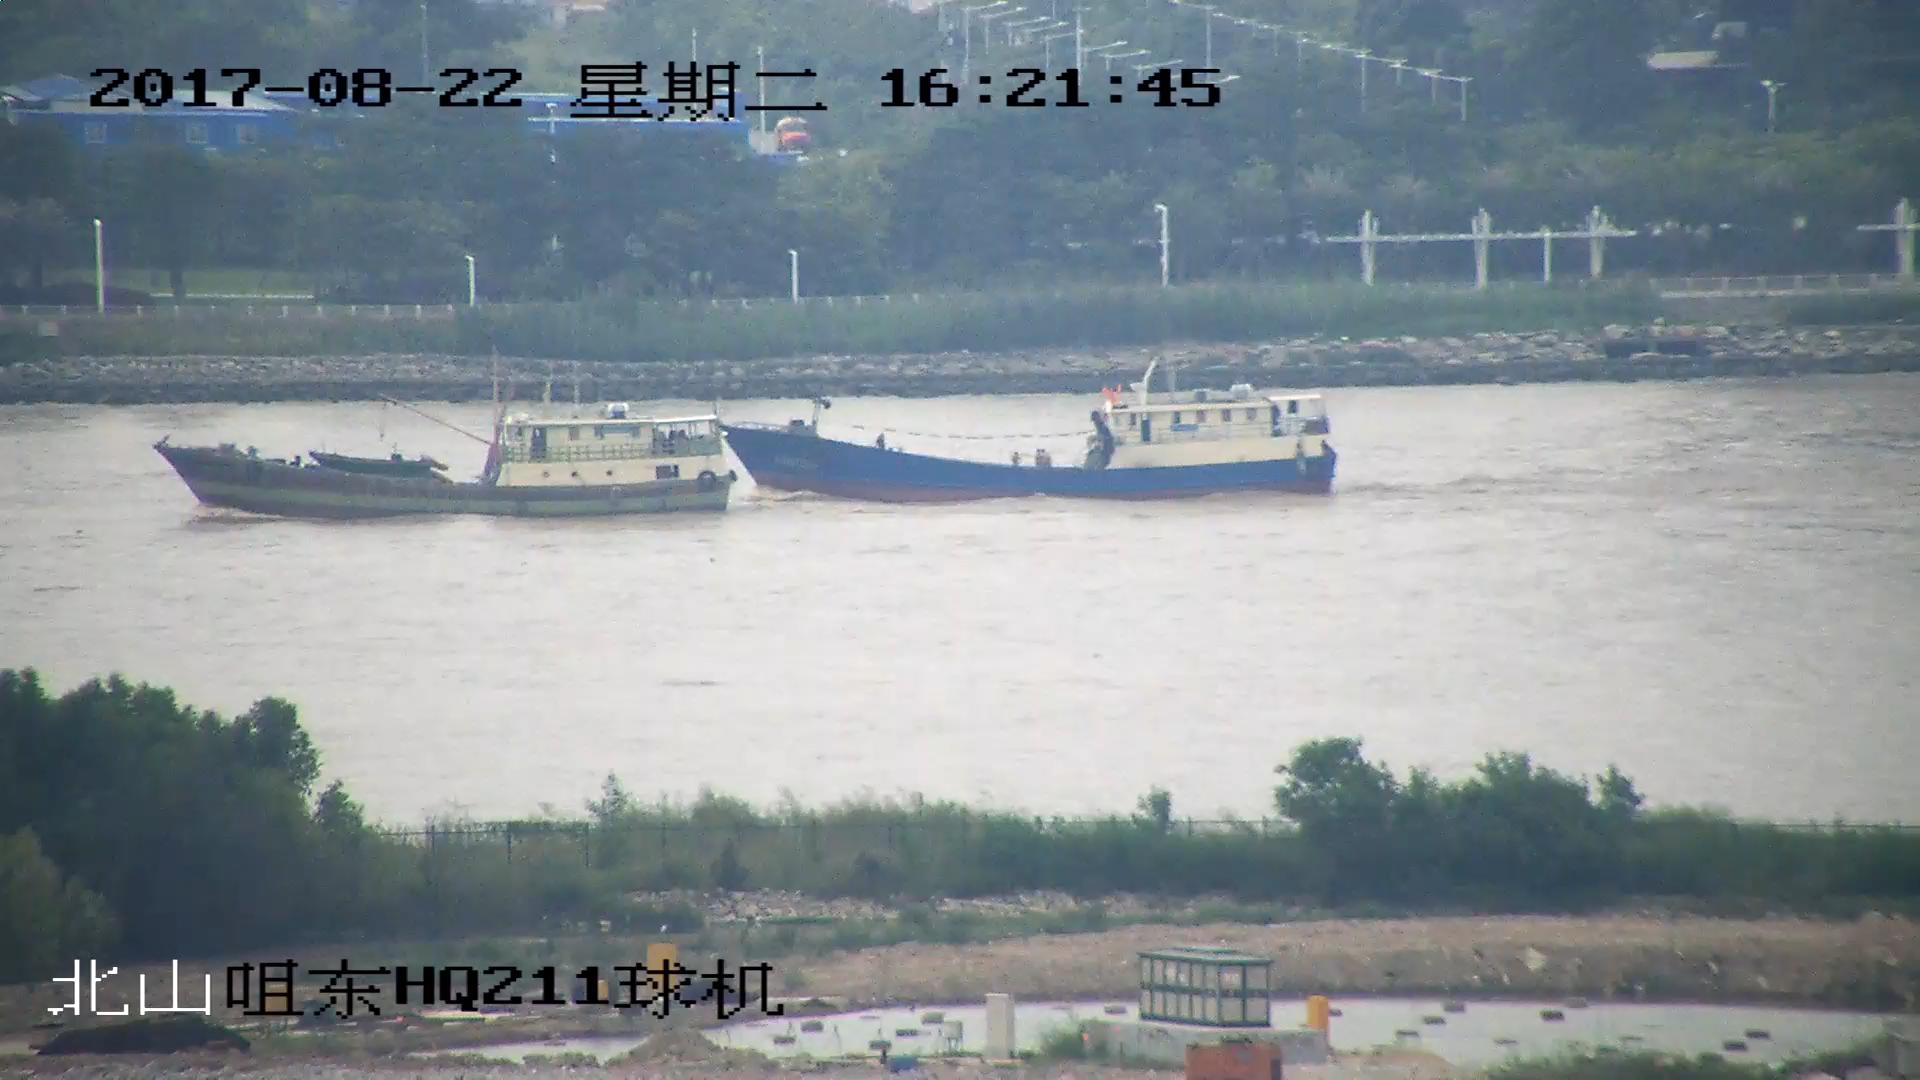fishing boat: (159, 361, 740, 516), (725, 371, 1333, 503)
